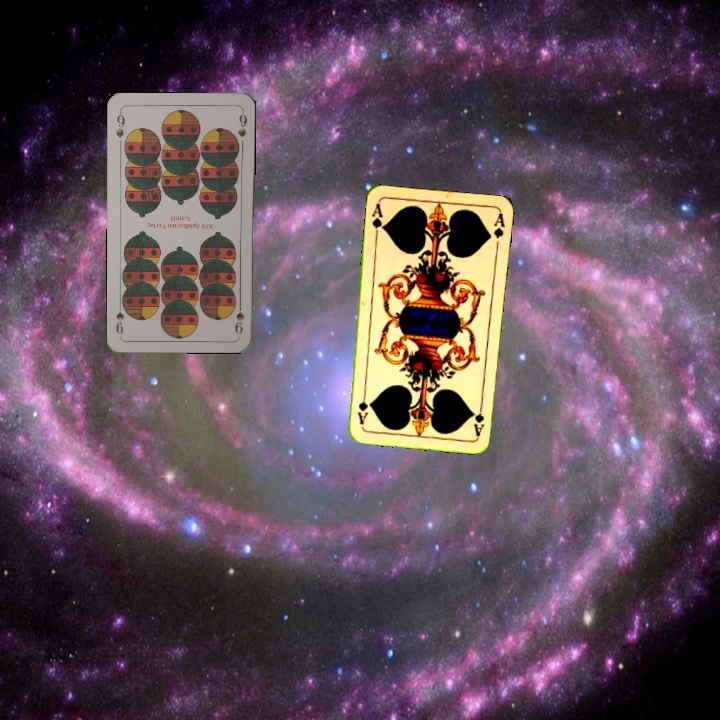GA: (368, 199, 387, 240), (470, 398, 487, 439)
S9: (231, 296, 247, 337), (112, 107, 127, 140)
